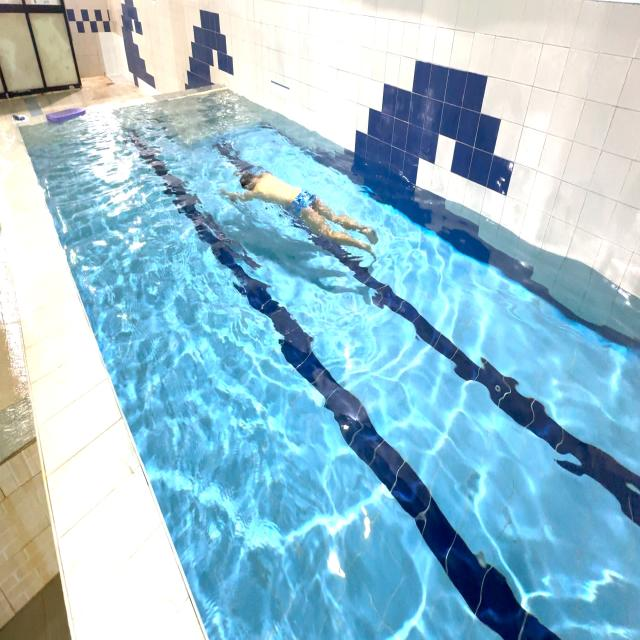Swimming: (217, 141, 394, 271)
